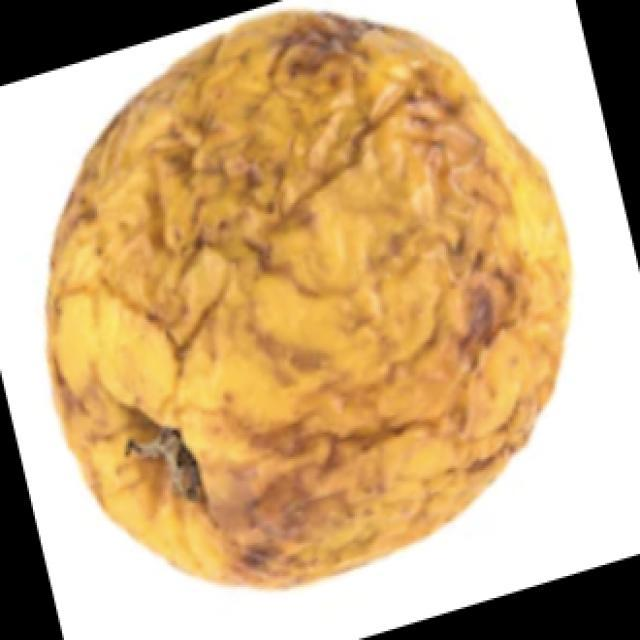Rotten: (60, 17, 553, 578)
